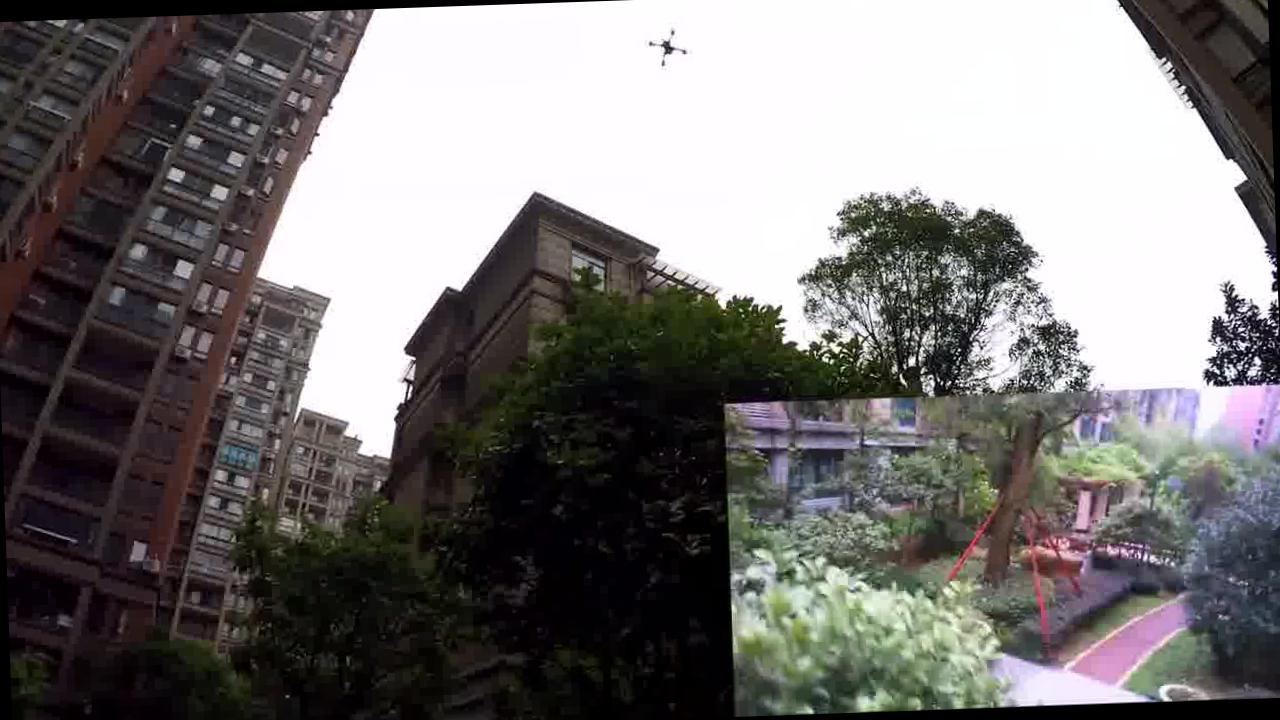drone: (604, 5, 690, 63)
